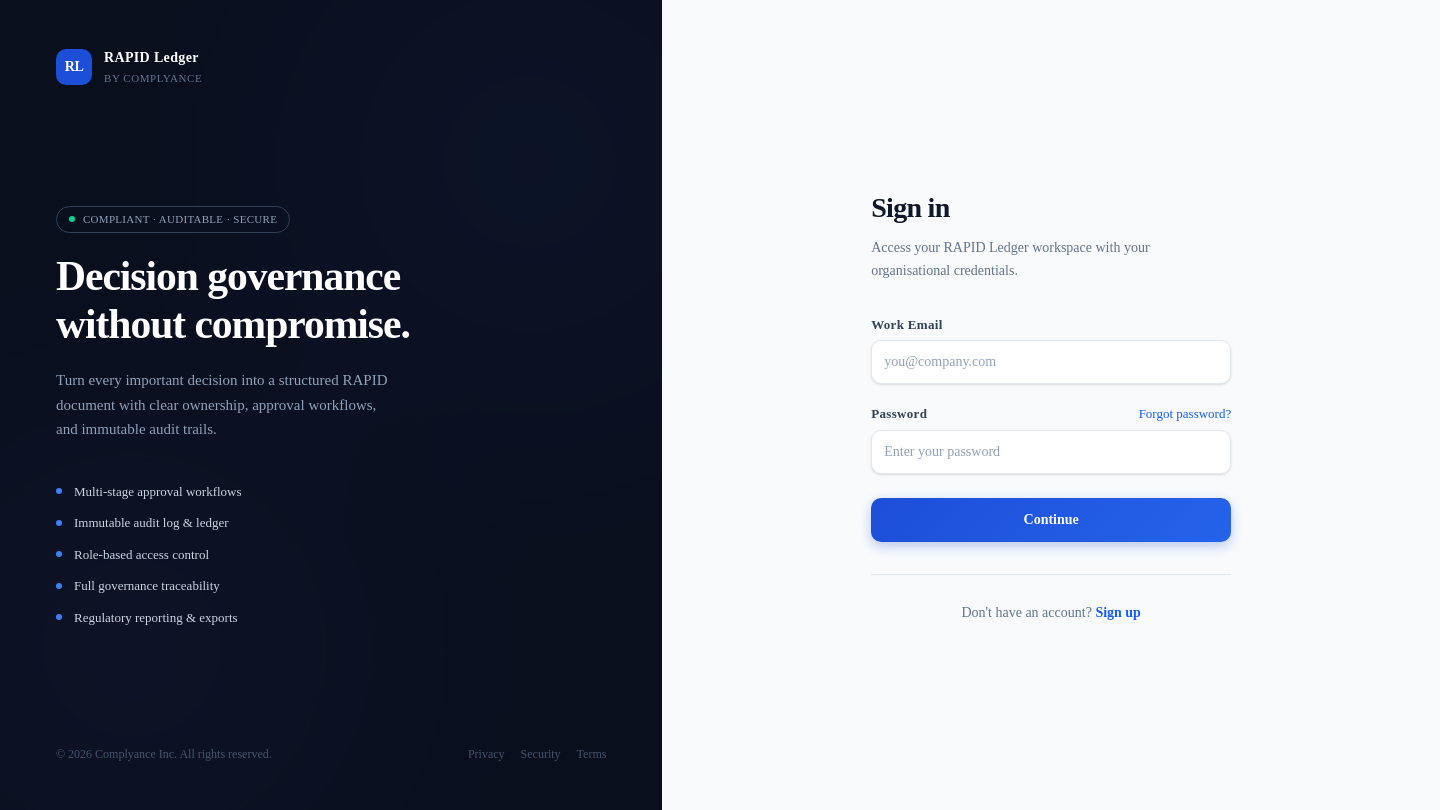
LoginPage › submit button is disabled while loading
The width and height of the screenshot is (1440, 810).
Type "admin@rapid.dev" into the field labelled "Work Email" at (1051, 362), box [871,340,1231,384]
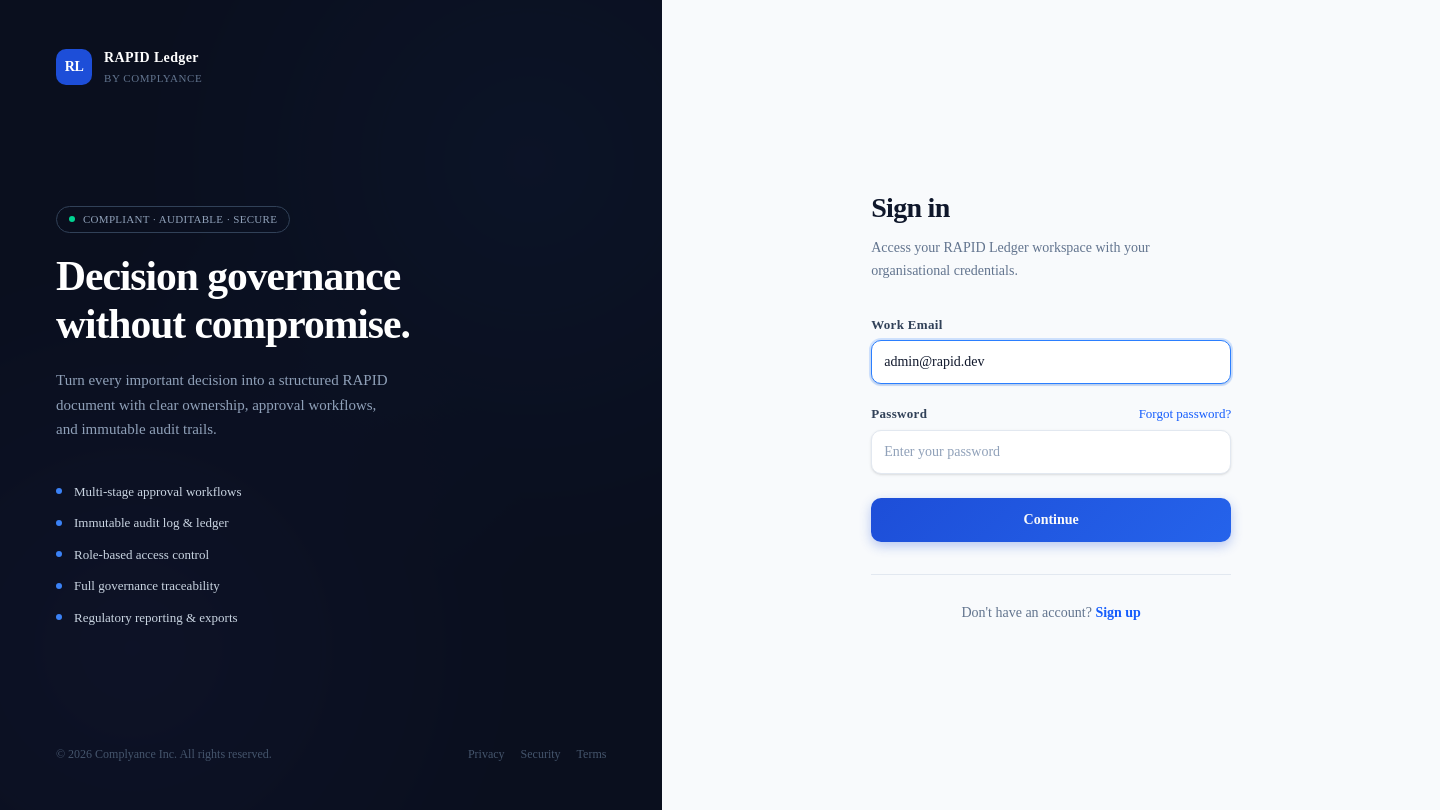
Type "password123" into the password field labelled "Password" at (1051, 452), box [871,430,1231,474]
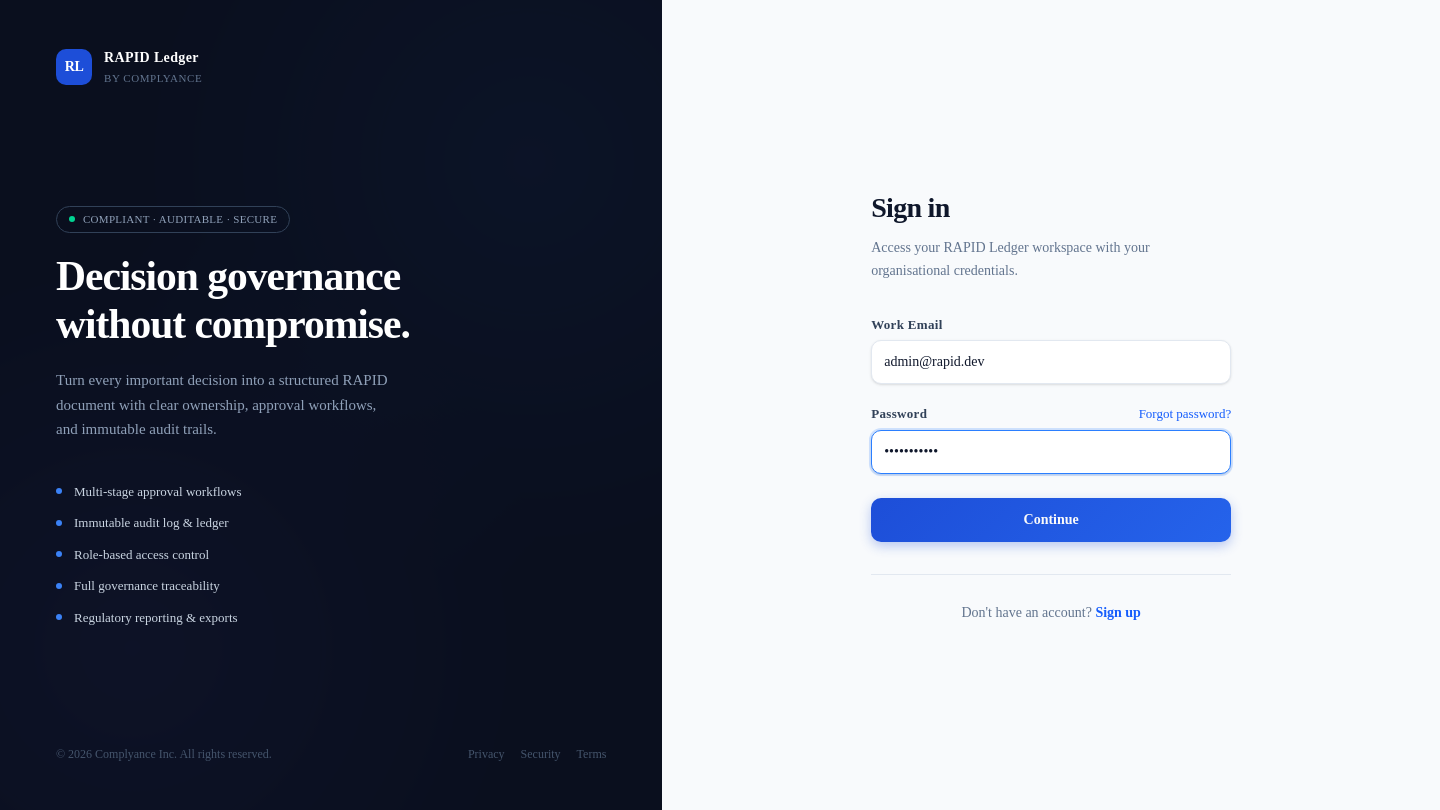
Click the button "Continue" at (1051, 520), box [871,498,1231,542]
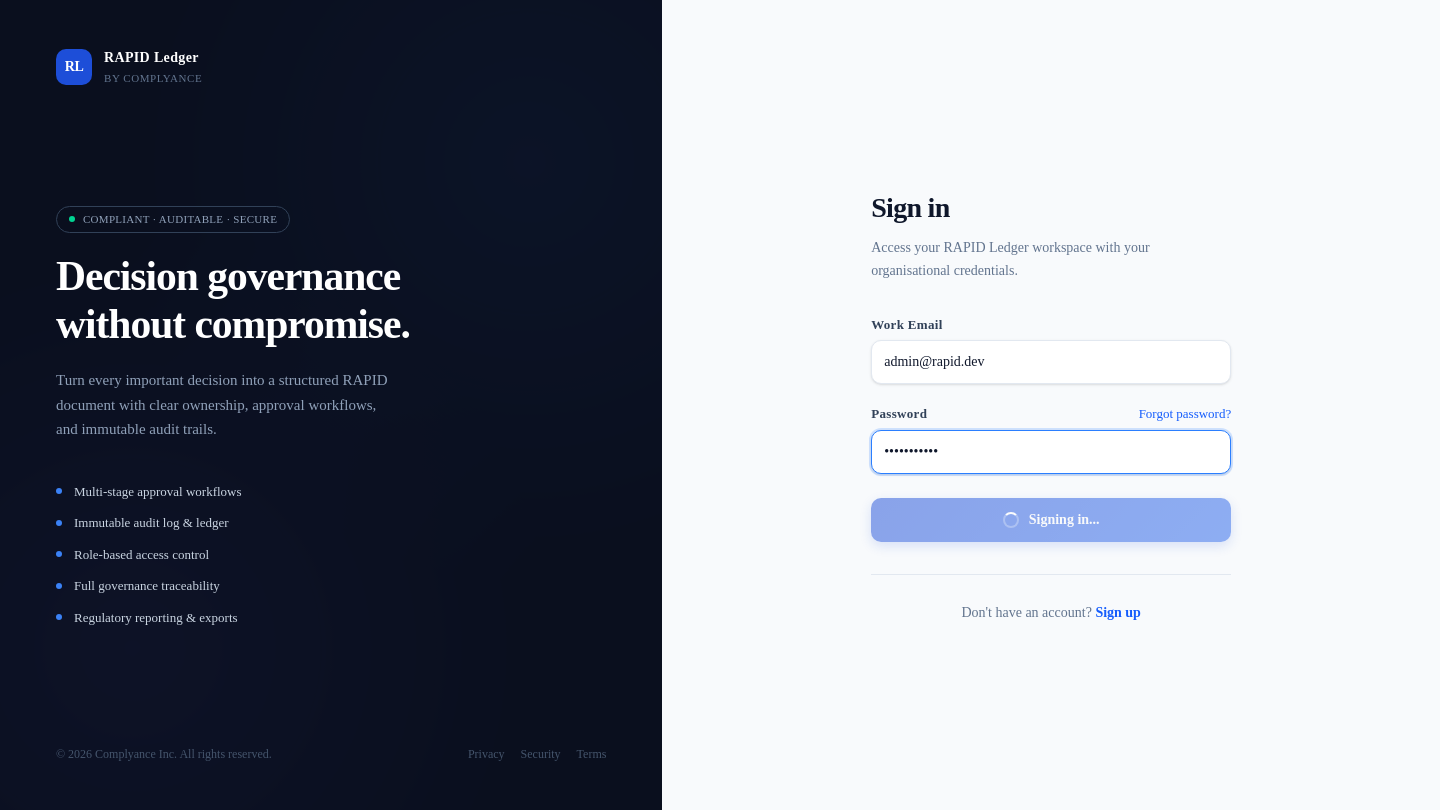
Check: the text "Signing in..." is shown, box [1003,510,1100,530]
Check: the button named "continue" is disabled, box [871,498,1231,542]
